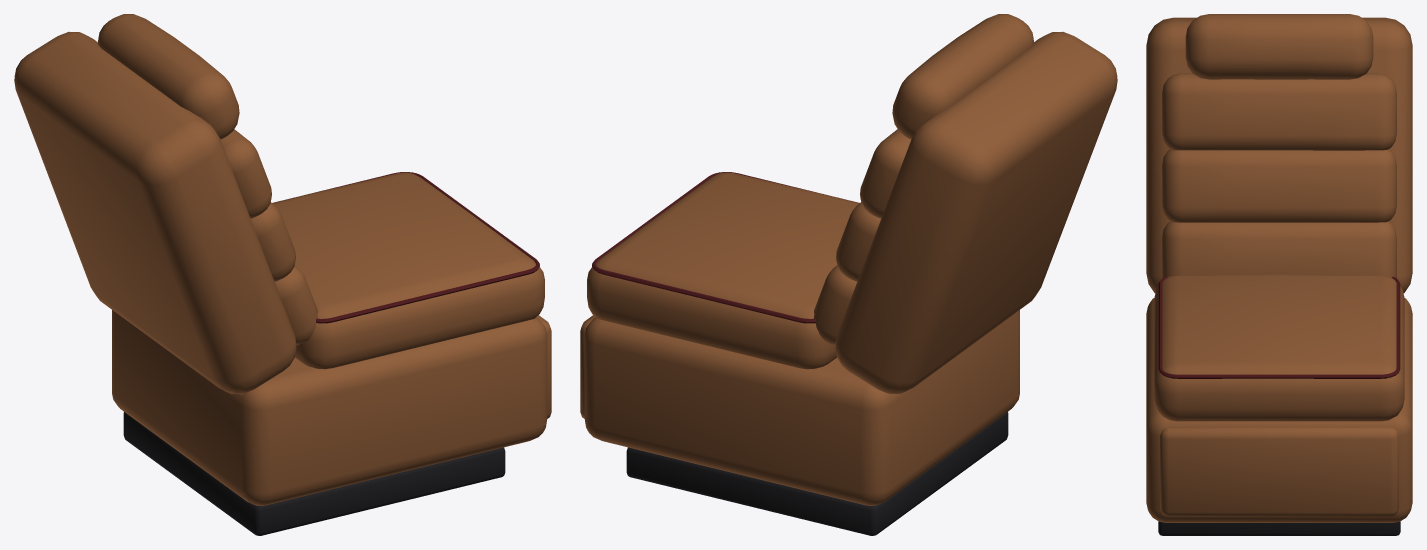
The model's file is seat_club.glb.
The picture shows the model from 3 angles, left to right: view 1: azimuth 30°, elevation 25°; view 2: azimuth 150°, elevation 25°; view 3: azimuth 270°, elevation 25°; orthographic projection. The views are drawn at different scales.
Parts seen in each view (by area): view 1: BackBody_LOD0, Base_LOD0, Cushion_LOD0, Plinth_LOD0, Headrest_LOD0, Roll2_LOD0, Roll1_LOD0, Roll0_LOD0, Welt_LOD0; view 2: BackBody_LOD0, Base_LOD0, Cushion_LOD0, Plinth_LOD0, Headrest_LOD0, Roll2_LOD0, Roll1_LOD0, Roll0_LOD0, Welt_LOD0; view 3: Cushion_LOD0, Footrest_LOD0, Roll2_LOD0, Roll1_LOD0, Roll0_LOD0, Headrest_LOD0, BackBody_LOD0, Base_LOD0, Plinth_LOD0, Welt_LOD0.
Boxes of the visible parts, x1,y1,x2,y2 form: BackBody_LOD0: (14, 31, 296, 394); Base_LOD0: (112, 310, 547, 505); Cushion_LOD0: (272, 172, 544, 369); Plinth_LOD0: (123, 412, 505, 535); Headrest_LOD0: (98, 14, 239, 139); Roll2_LOD0: (220, 129, 271, 218); Roll1_LOD0: (251, 202, 295, 281); Roll0_LOD0: (275, 265, 317, 345); Welt_LOD0: (273, 172, 539, 323); BackBody_LOD0: (835, 31, 1117, 394); Base_LOD0: (584, 310, 1019, 505); Cushion_LOD0: (587, 172, 859, 369); Plinth_LOD0: (626, 412, 1008, 535); Headrest_LOD0: (892, 14, 1033, 139); Roll2_LOD0: (860, 129, 910, 218); Roll1_LOD0: (836, 202, 880, 281); Roll0_LOD0: (814, 265, 856, 345); Welt_LOD0: (592, 172, 858, 323); Cushion_LOD0: (1154, 275, 1404, 421); Footrest_LOD0: (1160, 427, 1398, 516); Roll2_LOD0: (1162, 73, 1396, 150); Roll1_LOD0: (1162, 149, 1396, 222); Roll0_LOD0: (1162, 221, 1396, 278); Headrest_LOD0: (1185, 14, 1373, 79); BackBody_LOD0: (1146, 17, 1412, 292); Base_LOD0: (1146, 298, 1412, 522); Plinth_LOD0: (1158, 521, 1400, 535); Welt_LOD0: (1158, 276, 1400, 378).
Size of what is drawn, in the model's own units: 1.09 by 1.13 by 0.68.
